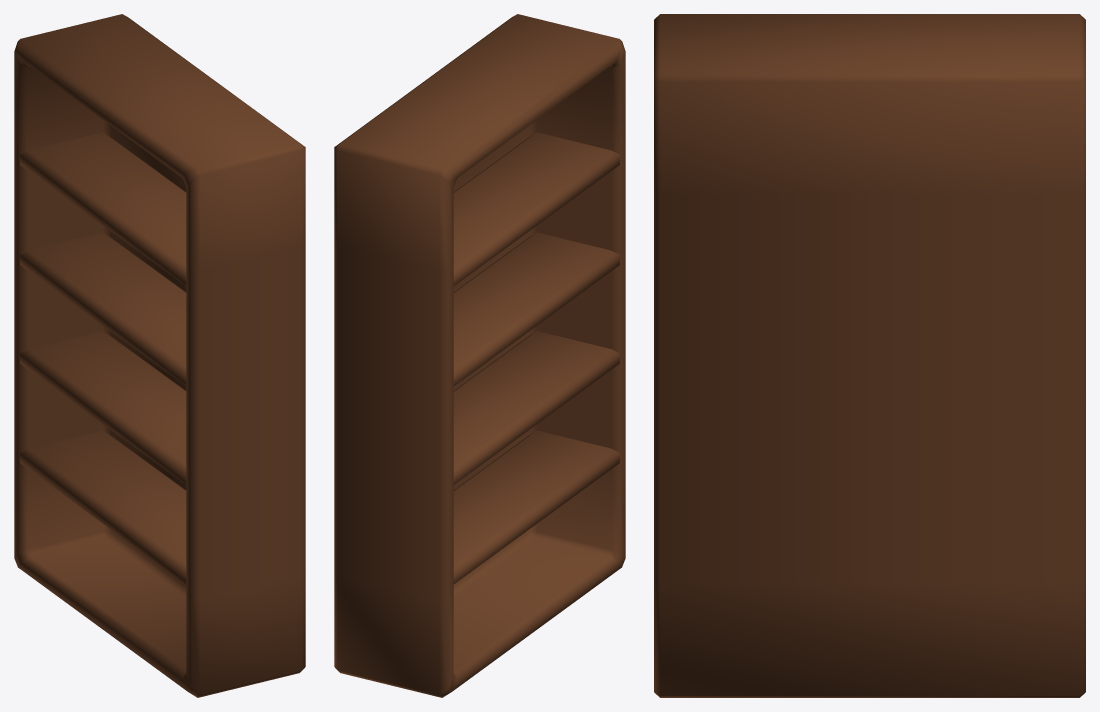
File: vanBookshelf.fbx
3 views of the same model, side by side, from view 1: azimuth 30°, elevation 25°; view 2: azimuth 150°, elevation 25°; view 3: azimuth 270°, elevation 25° (orthographic). The views are drawn at different scales.
Visible parts, largest first — view 1: Cube.013; view 2: Cube.013; view 3: Cube.013.
Boxes of the visible parts, x1,y1,x2,y2 form: Cube.013: (14,14,305,697); Cube.013: (334,14,625,697); Cube.013: (654,14,1085,697).
Bounding box in the file's own units: 262 × 1161 × 727.
